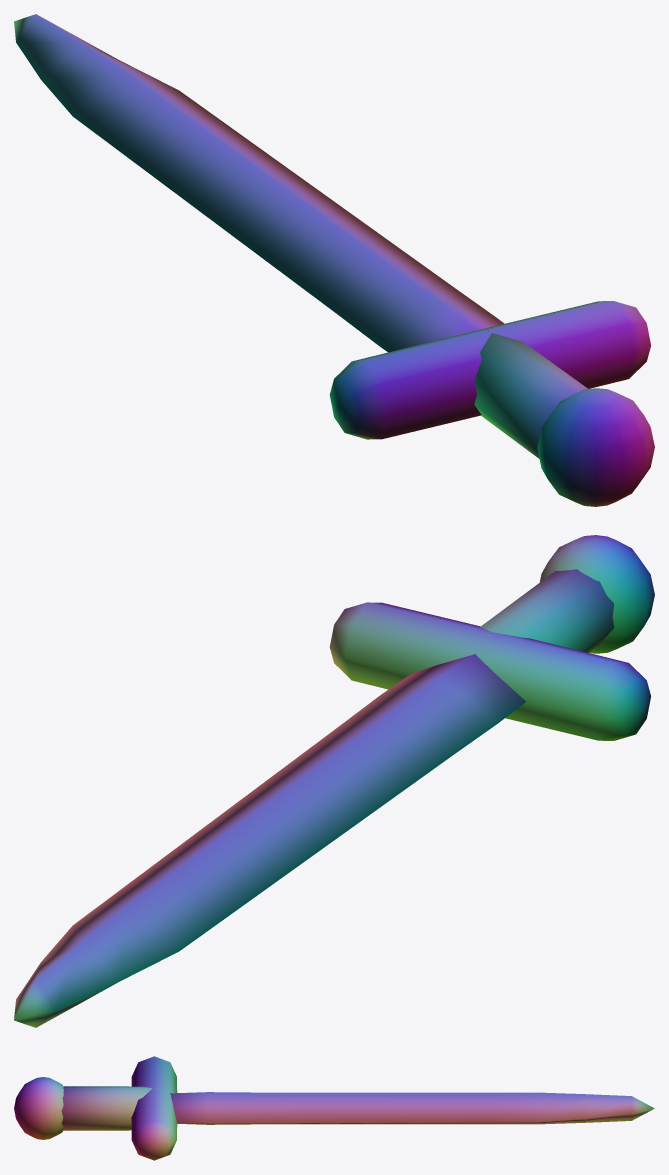
Rendered from SM_NPCKit_Prop_Sword.fbx.
The picture shows the model from 3 angles, top to bottom: view 1: azimuth 30°, elevation 25°; view 2: azimuth 150°, elevation 25°; view 3: azimuth 270°, elevation 25°; orthographic projection. The views are drawn at different scales.
Parts seen in each view (by area): view 1: SM_NPCKit_Prop_Sword; view 2: SM_NPCKit_Prop_Sword; view 3: SM_NPCKit_Prop_Sword.
Part boxes in pixels (x1,y1,x2,y2): SM_NPCKit_Prop_Sword: (14,14,654,506); SM_NPCKit_Prop_Sword: (14,535,654,1027); SM_NPCKit_Prop_Sword: (14,1056,654,1160).
Bounding box in the file's own units: 0.2721 × 0.0927 × 0.9435.
